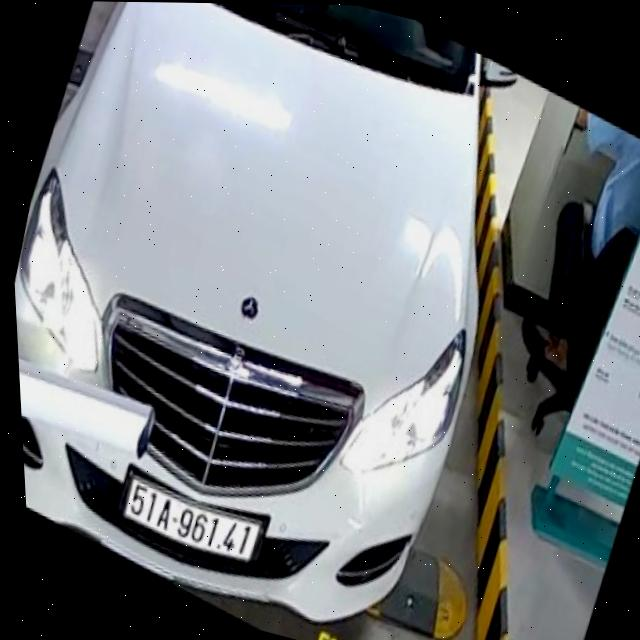car: (0, 0, 570, 640)
plate: (111, 470, 272, 571)
